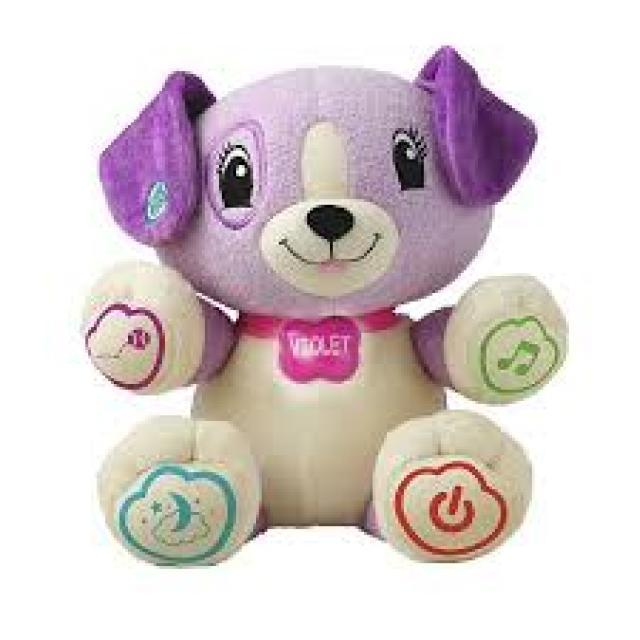soft-toy: (85, 49, 567, 566)
